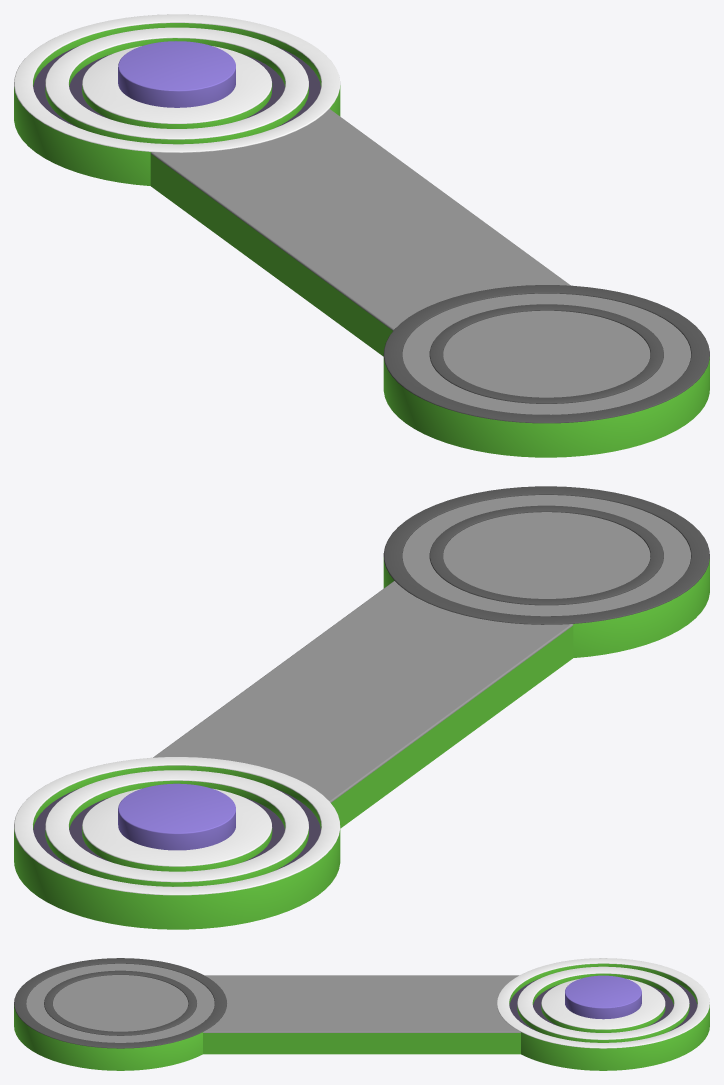
Rendered from Ground.fbx.
3 views of the same model, one above another, from view 1: azimuth 30°, elevation 25°; view 2: azimuth 150°, elevation 25°; view 3: azimuth 270°, elevation 25° (orthographic). The views are drawn at different scales.
Parts seen in each view (by area): view 1: Cube.183, Cylinder, Cylinder.004, Cylinder.002, Cylinder.001, Cylinder.003; view 2: Cube.183, Cylinder, Cylinder.004, Cylinder.002, Cylinder.001, Cylinder.003; view 3: Cube.183, Cylinder, Cylinder.004, Cylinder.002, Cylinder.001, Cylinder.003.
Part boxes in pixels (bbox=[...]): Cube.183: bbox=[150, 109, 570, 356]; Cylinder: bbox=[14, 14, 340, 185]; Cylinder.004: bbox=[402, 293, 690, 414]; Cylinder.002: bbox=[383, 285, 709, 457]; Cylinder.001: bbox=[118, 41, 235, 107]; Cylinder.003: bbox=[429, 304, 663, 403]; Cube.183: bbox=[153, 581, 573, 828]; Cylinder: bbox=[14, 757, 340, 929]; Cylinder.004: bbox=[402, 495, 690, 616]; Cylinder.002: bbox=[383, 486, 709, 657]; Cylinder.001: bbox=[118, 783, 235, 850]; Cylinder.003: bbox=[429, 505, 663, 605]; Cube.183: bbox=[203, 975, 520, 1054]; Cylinder: bbox=[497, 958, 709, 1070]; Cylinder.004: bbox=[26, 963, 214, 1042]; Cylinder.002: bbox=[14, 958, 226, 1070]; Cylinder.001: bbox=[565, 975, 641, 1019]; Cylinder.003: bbox=[44, 970, 196, 1035].
Bounding box in the file's own units: 200 × 35.39 × 653.
